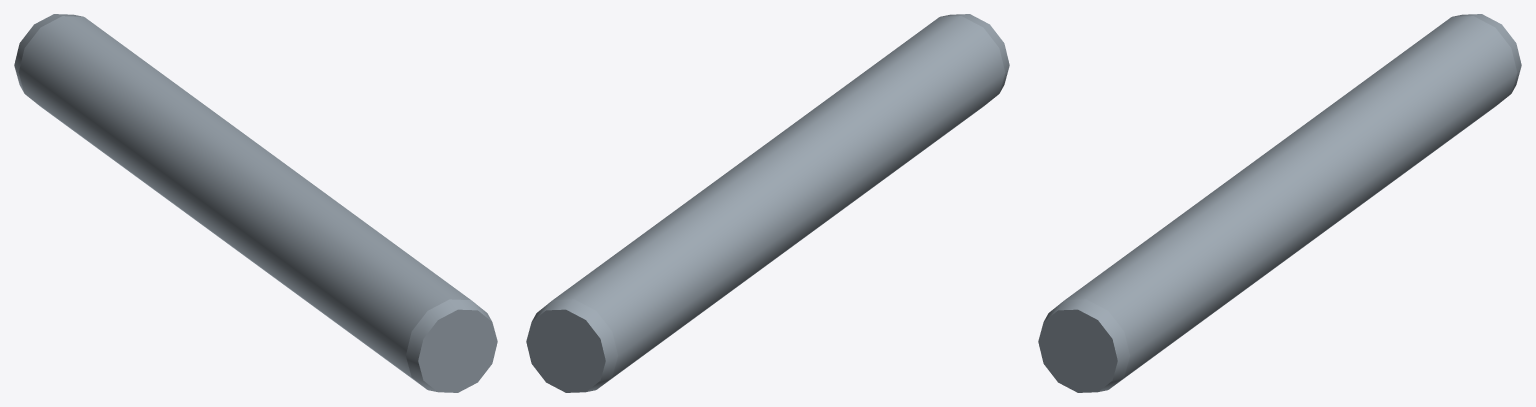
File: Parallel_Pin_3_x_24_1.obj
3 views of the same model, side by side, from view 1: azimuth 30°, elevation 25°; view 2: azimuth 150°, elevation 25°; view 3: azimuth 330°, elevation 25° (orthographic).
Visible parts, largest first — view 1: Body1; view 2: Body1; view 3: Body1.
Boxes of the visible parts, box(x1,y1,x2,y2) form: Body1: box(14, 14, 497, 392); Body1: box(526, 14, 1009, 392); Body1: box(1038, 14, 1521, 392).
Size of the model in its own units: 3 by 3 by 24.
